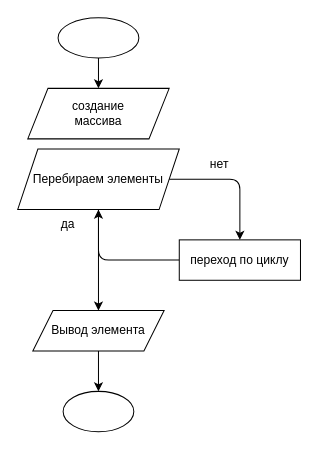
Some shapes in this 318 by 449 pixel diagram are drawn without their labels. Here are the shapes that lost their labels. From the top down, the box of each, then its label:
(57, 17, 139, 58): начало
(62, 390, 134, 432): конец
